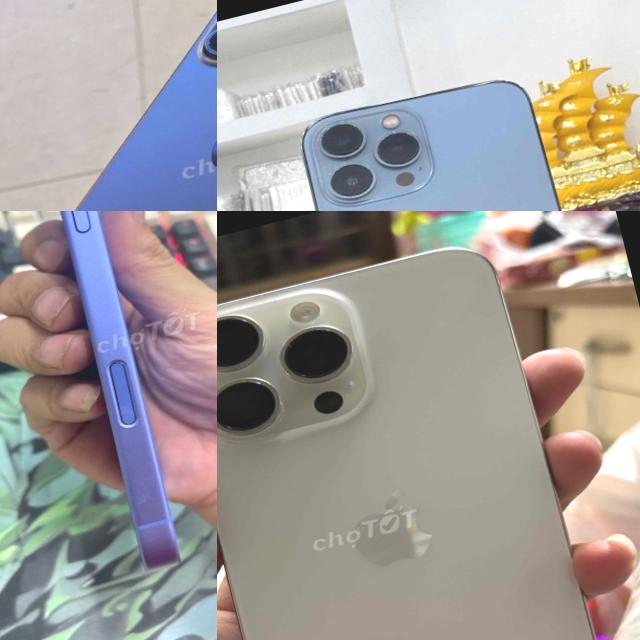gen_12_13: (275, 50, 639, 211)
gen_15: (217, 220, 636, 640), (0, 0, 217, 211)
scratch: (0, 211, 217, 583), (114, 461, 179, 522)
